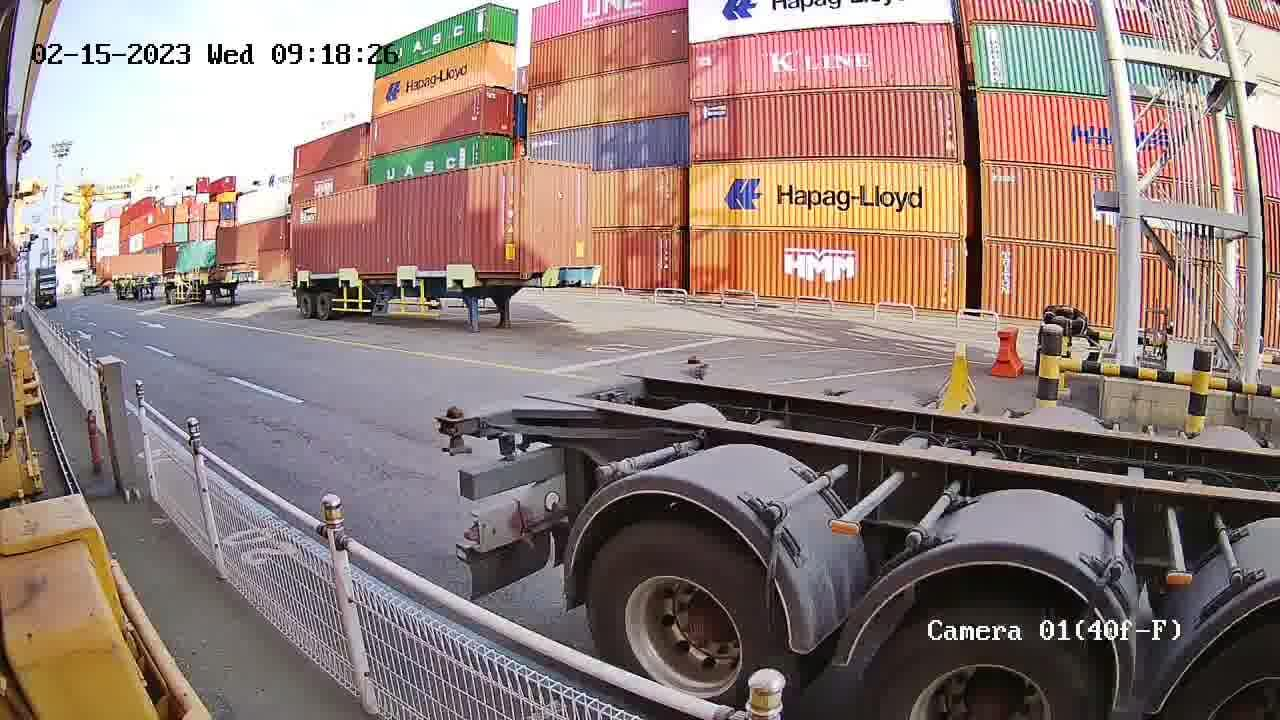Chassis: (441, 358, 711, 431)
Cone: (431, 406, 466, 453), (680, 353, 709, 367)
Tire: (587, 529, 776, 706), (867, 608, 1101, 714), (1175, 628, 1276, 714)
